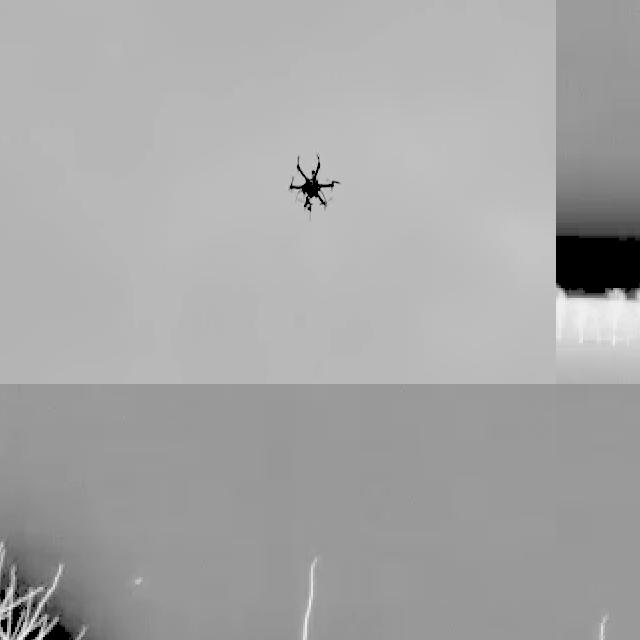0: (127, 572, 153, 602)
drone: (280, 146, 338, 220)
